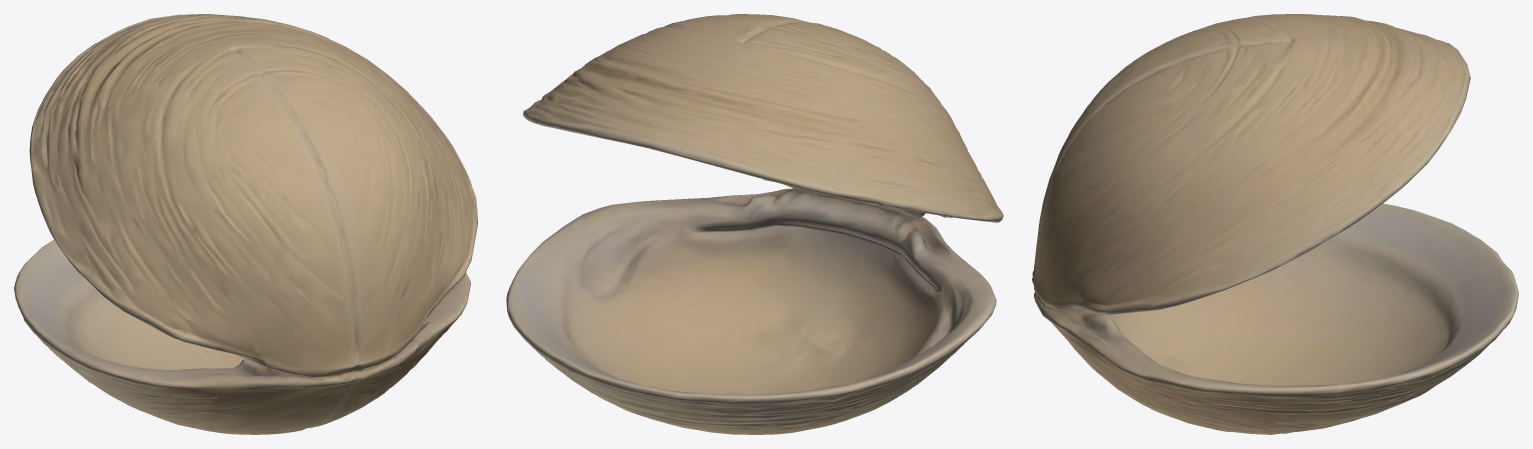
Rendered from muschel.glb.
3 renders of one model, left to right at view 1: azimuth 30°, elevation 25°; view 2: azimuth 150°, elevation 25°; view 3: azimuth 270°, elevation 25°, orthographic. The views are drawn at different scales.
Bounding box in the file's own units: 0.9836 × 0.8305 × 0.9997.
Materials: 1 (1 with a texture image).
